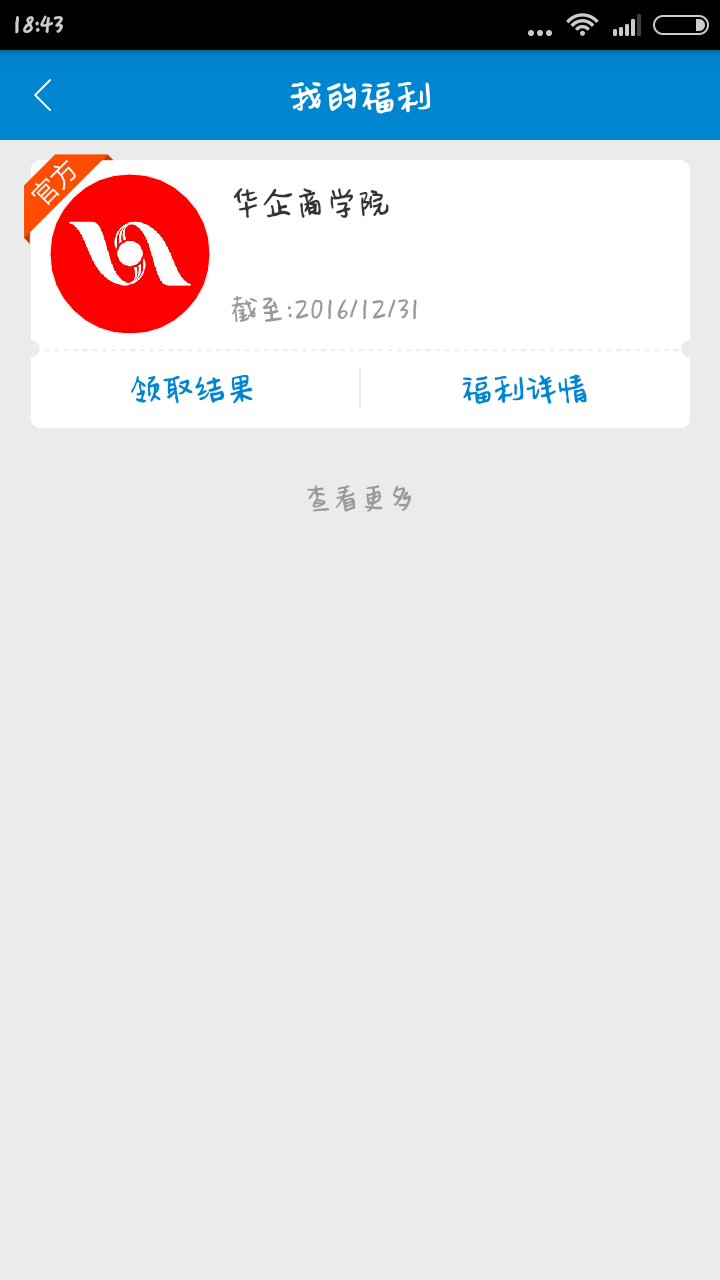button: (27, 337, 367, 440)
